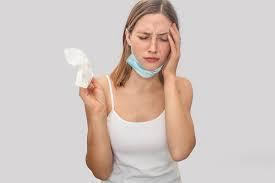Wore Mask Incorrectly: (122, 2, 183, 85)
